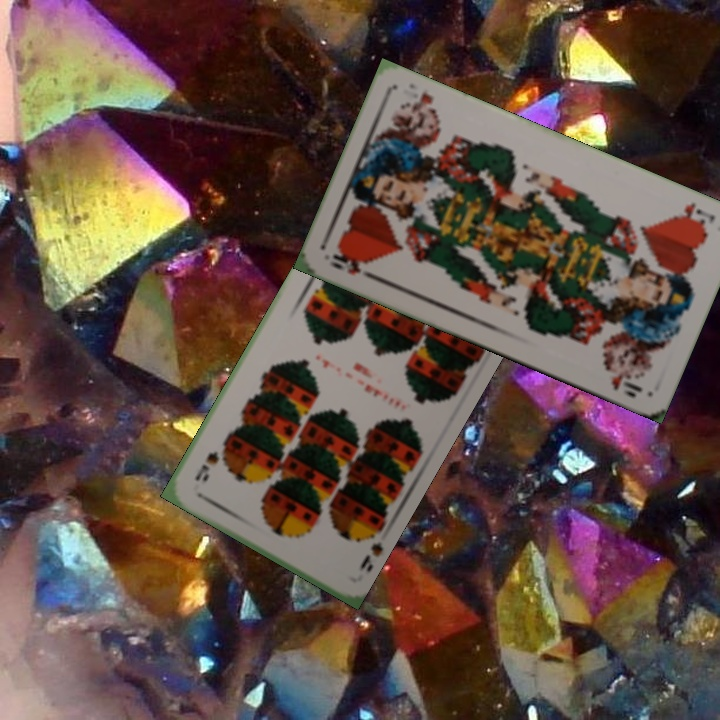HO: (326, 249, 381, 284), (669, 199, 718, 231)
S9: (354, 524, 385, 575)
